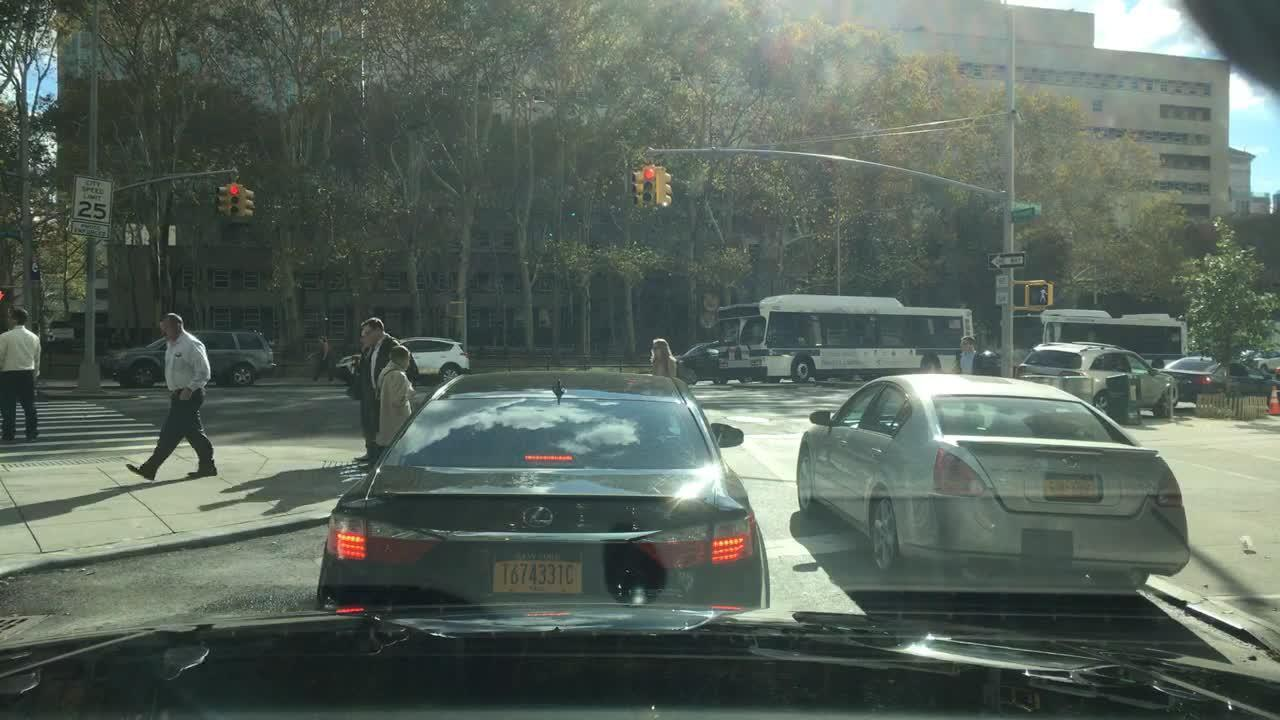lexus: (515, 498, 562, 532)
